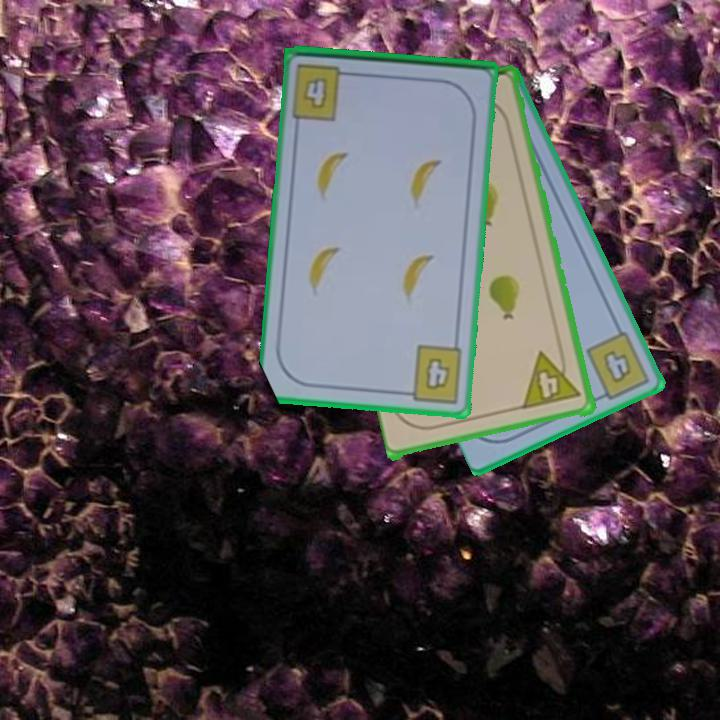4b: (582, 328, 653, 404), (398, 342, 466, 406), (288, 60, 357, 123)
4p: (520, 345, 585, 412)
